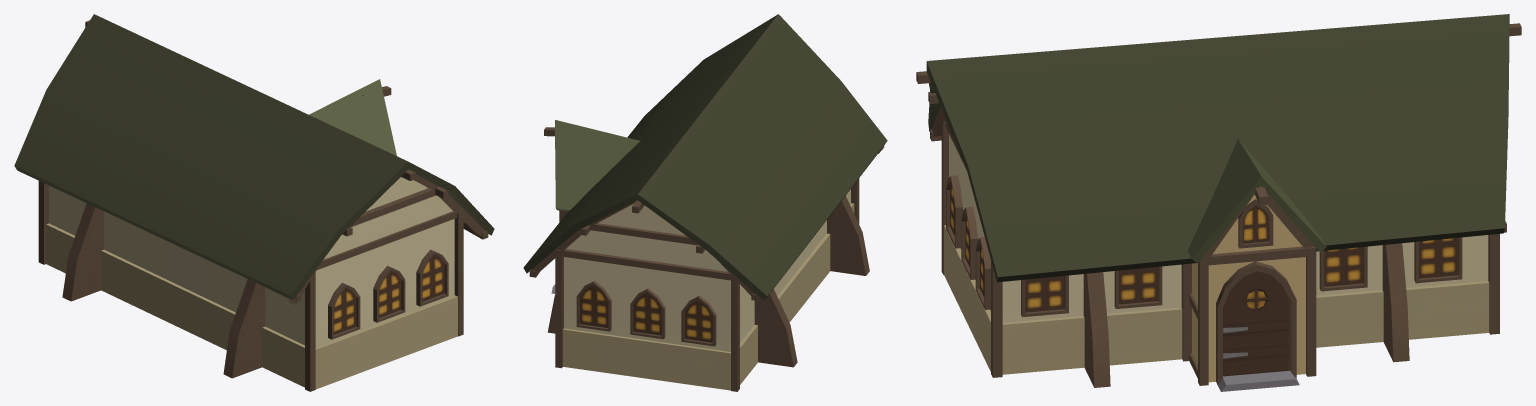
Rendered from castle_town_armory.glb.
3 renders of one model, left to right at view 1: azimuth 30°, elevation 25°; view 2: azimuth 150°, elevation 25°; view 3: azimuth 270°, elevation 25°, orthographic. The views are drawn at different scales.
Visible parts, largest first — view 1: Object_28; view 2: Object_28; view 3: Object_28.
Part boxes in pixels (<box>): Object_28: <box>14,14,494,391</box>; Object_28: <box>523,14,887,391</box>; Object_28: <box>916,14,1521,391</box>.
Bounding box in the file's own units: 10.69 × 7.08 × 14.56.
Materials: 1 (1 with a texture image).
